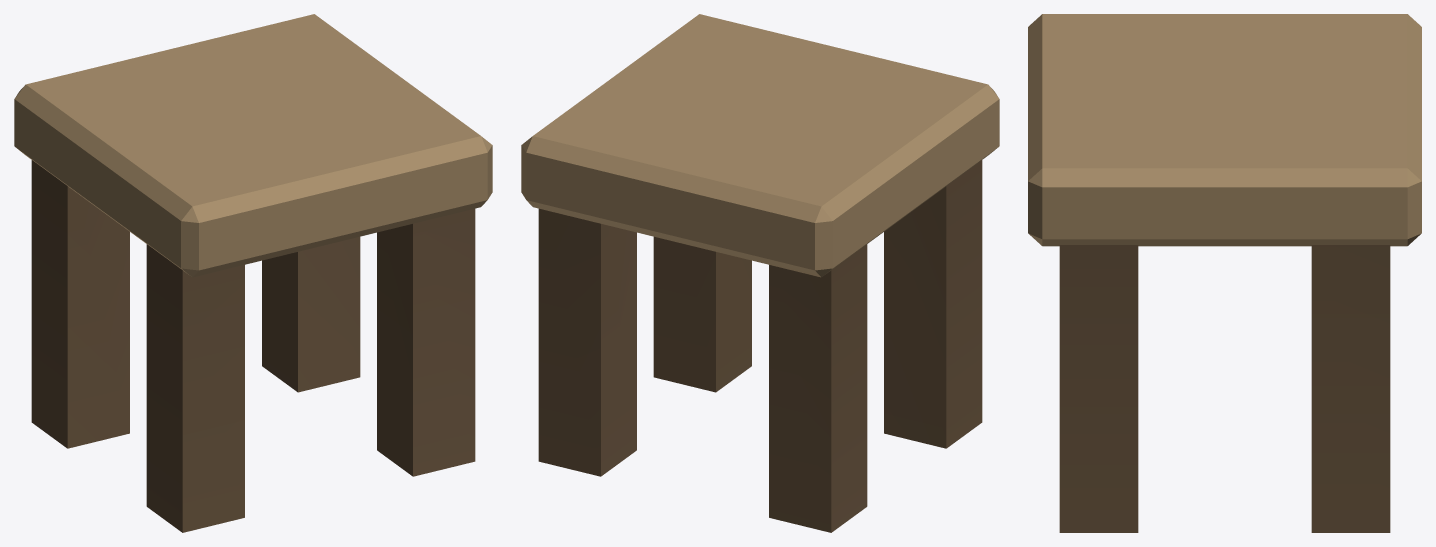
Rendered from stool.glb.
The picture shows the model from 3 angles, left to right: view 1: azimuth 30°, elevation 25°; view 2: azimuth 150°, elevation 25°; view 3: azimuth 270°, elevation 25°; orthographic projection. The views are drawn at different scales.
Visible parts, largest first — view 1: stool; view 2: stool; view 3: stool.
Part boxes in pixels (left/top/right/bottom): stool: left=14, top=14, right=492, bottom=532; stool: left=521, top=14, right=999, bottom=532; stool: left=1028, top=14, right=1421, bottom=532.
Size of the model in its own units: 0.55 by 0.56 by 0.55.
